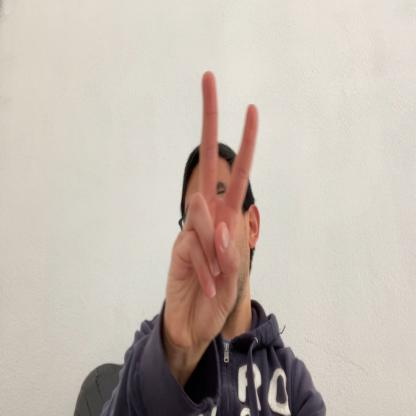V: (165, 69, 259, 366)
